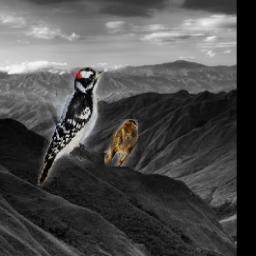Sparrow: (105, 120, 139, 168)
Woodpecker: (39, 67, 105, 185)
